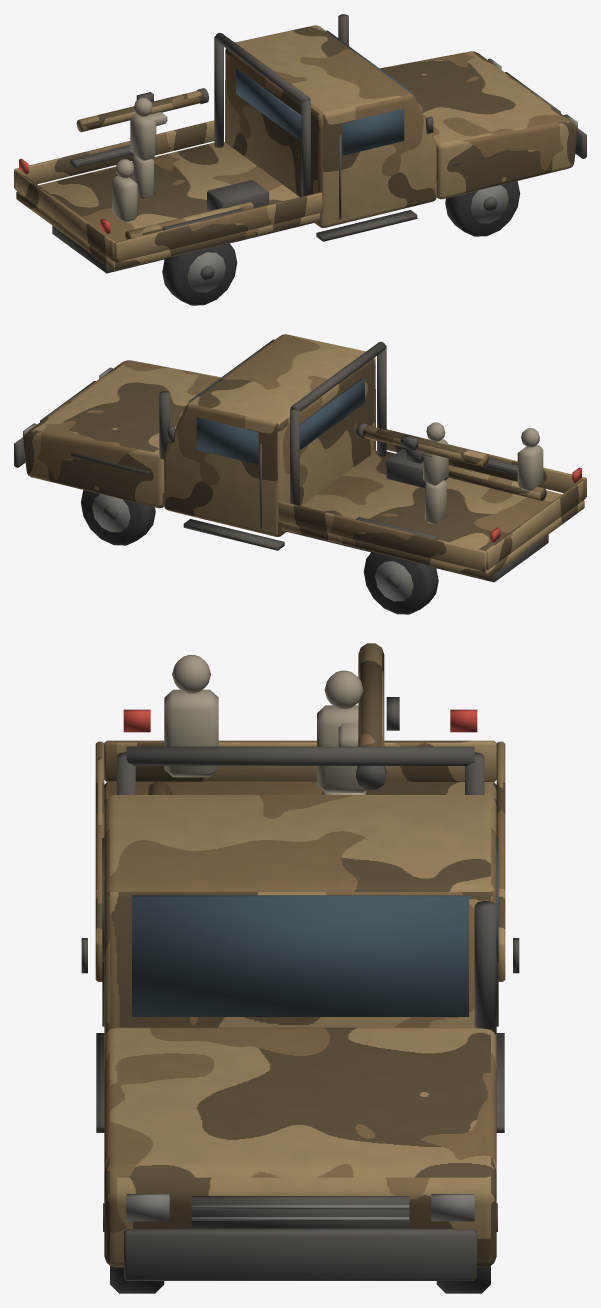
File: convoy_manpads.glb
3 views of the same model, one above another, from view 1: azimuth 30°, elevation 25°; view 2: azimuth 150°, elevation 25°; view 3: azimuth 270°, elevation 25° (orthographic). The views are drawn at different scales.
Visible parts, largest first — view 1: convoy_manpads, wheel_1r, wheel_fr, launcher; view 2: convoy_manpads, wheel_1l, wheel_fl, launcher; view 3: convoy_manpads, launcher, wheel_fl, wheel_fr.
Part boxes in pixels (box(x1,y1,x2,y2)): convoy_manpads: box(14, 14, 586, 273); wheel_1r: box(162, 243, 237, 305); wheel_fr: box(445, 181, 520, 236); launcher: box(76, 88, 208, 132); convoy_manpads: box(14, 334, 586, 582); wheel_1l: box(363, 551, 438, 614); wheel_fl: box(80, 490, 155, 545); launcher: box(356, 423, 488, 466); convoy_manpads: box(81, 655, 519, 1280); launcher: box(338, 643, 399, 789); wheel_fl: box(436, 1203, 497, 1293); wheel_fr: box(103, 1203, 164, 1293).
Bounding box in the file's own units: 1.02 × 0.369 × 0.402.
Materials: 7 (1 with a texture image).
